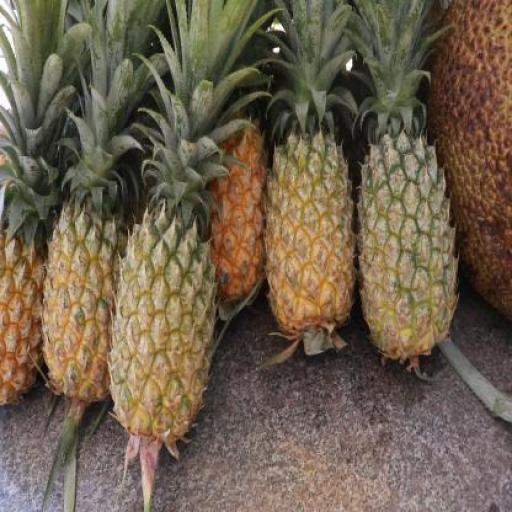------------------------------: (114, 216, 218, 438)
Pineapple - v8 v1: (42, 210, 134, 408), (266, 140, 354, 335), (0, 229, 42, 412)
